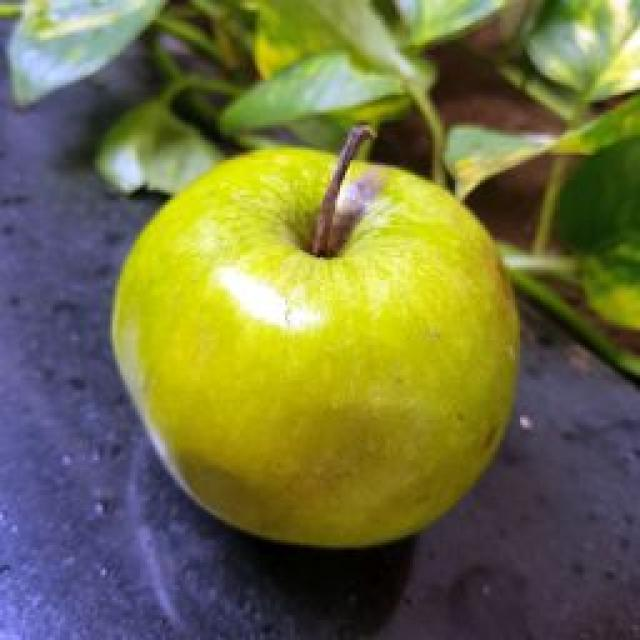Good_Apple: (115, 148, 512, 547)
